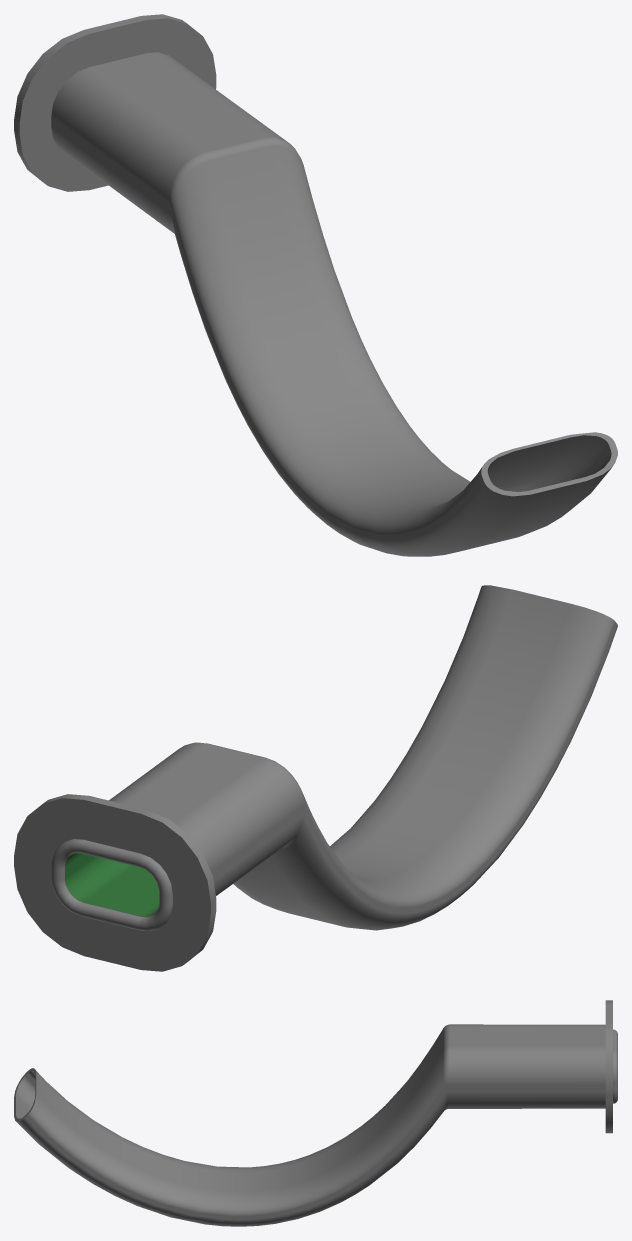
Rendered from canula verde.fbx.
3 renders of one model, top to bottom at view 1: azimuth 30°, elevation 25°; view 2: azimuth 150°, elevation 25°; view 3: azimuth 270°, elevation 25°, orthographic. The views are drawn at different scales.
Visible parts, largest first — view 1: Cortar-Extruir1; view 2: Cortar-Extruir1; view 3: Cortar-Extruir1.
Part boxes in pixels (x1,y1,x2,y2): Cortar-Extruir1: [14, 14, 617, 556]; Cortar-Extruir1: [14, 585, 617, 971]; Cortar-Extruir1: [14, 1000, 617, 1226].
Size of the model in its own units: 2.44 by 3.51 by 9.66.
